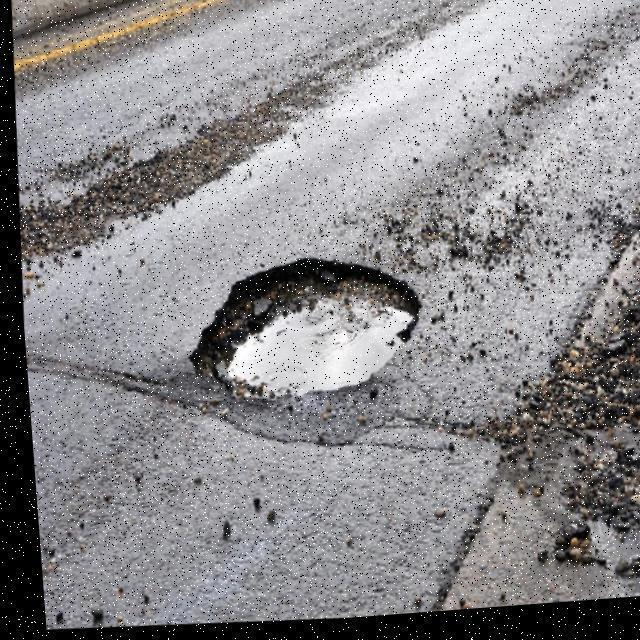Pothole: (184, 254, 425, 404)
